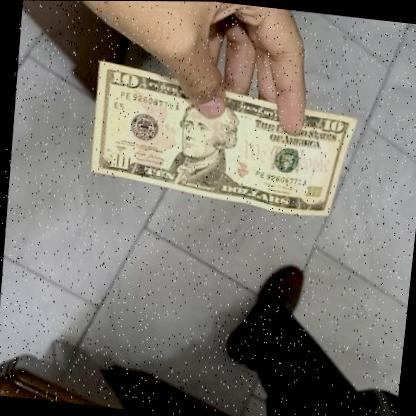ten-front: (85, 65, 362, 221)
